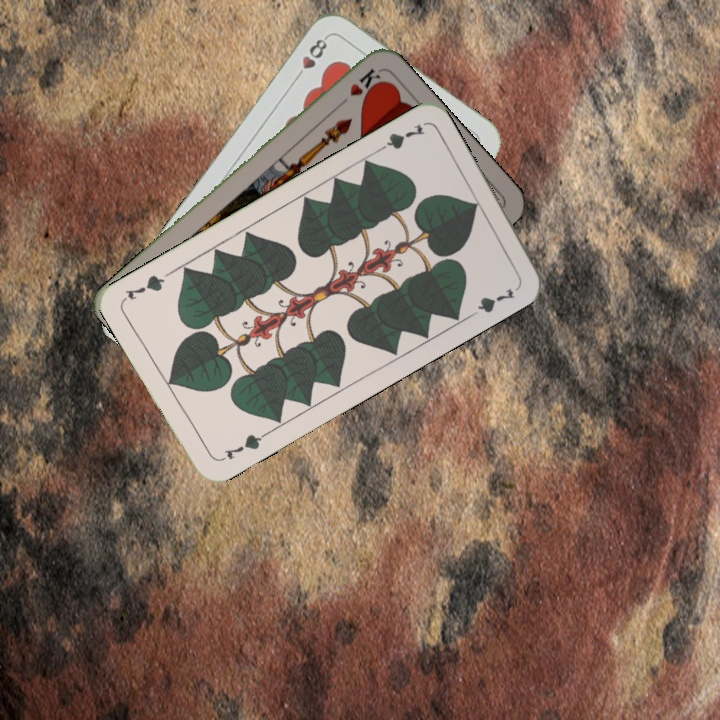G7: (215, 428, 270, 465), (372, 120, 428, 156)
H8: (290, 32, 331, 83)
HK: (332, 64, 383, 111)
